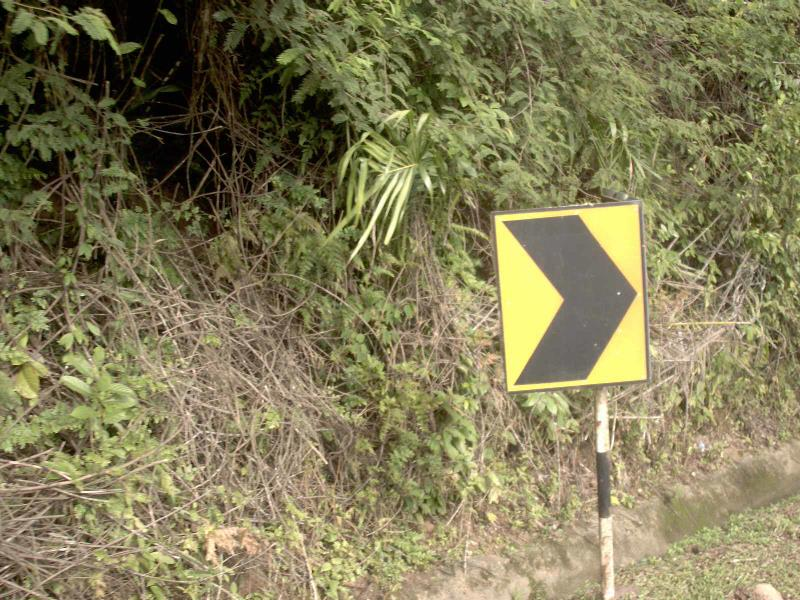traffic_sign: (476, 178, 668, 409)
